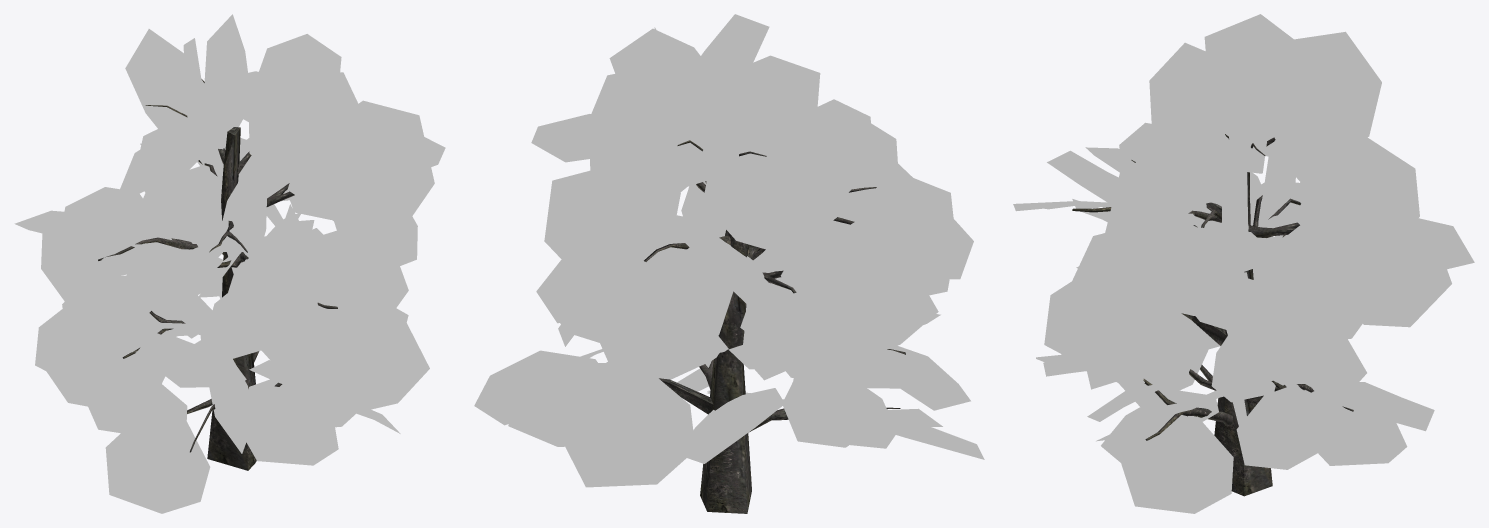
The model's file is tree_beech_low_2.DAE.
The picture shows the model from 3 angles, left to right: view 1: azimuth 30°, elevation 25°; view 2: azimuth 150°, elevation 25°; view 3: azimuth 270°, elevation 25°; orthographic projection. The views are drawn at different scales.
Parts seen in each view (by area): view 1: Object529, beech_modelling; view 2: Object529, beech_modelling; view 3: Object529, beech_modelling.
Part boxes in pixels (x1=…): Object529: x1=14, y1=14, x2=445, y2=513; beech_modelling: x1=98, y1=79, x2=337, y2=470; Object529: x1=474, y1=14, x2=984, y2=487; beech_modelling: x1=644, y1=140, x2=905, y2=513; Object529: x1=1013, y1=14, x2=1474, y2=513; beech_modelling: x1=1072, y1=134, x2=1353, y2=496.
Bounding box in the file's own units: 19.74 × 20.58 × 19.33.
